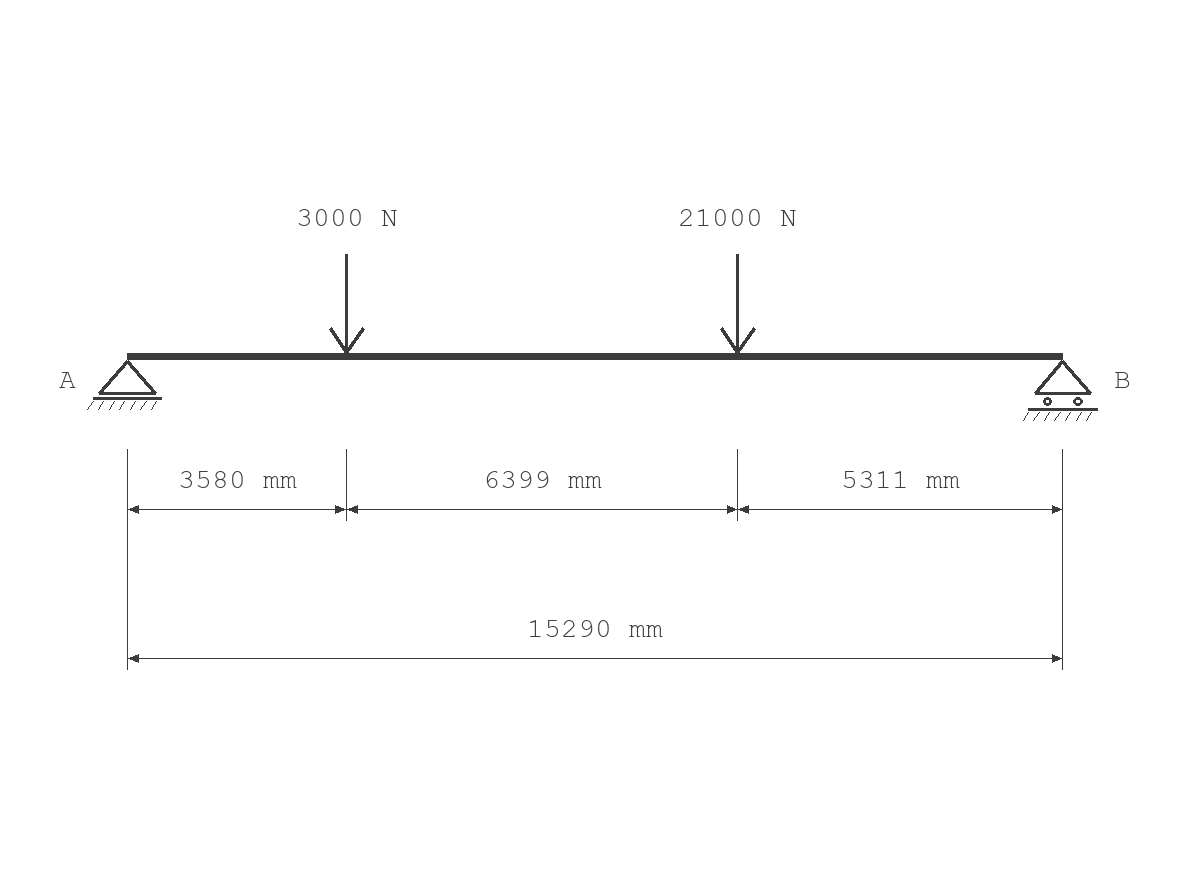pin_support: (87, 360, 162, 410)
point_load: (329, 254, 365, 354), (720, 254, 756, 354)
roller_support: (1023, 360, 1098, 421)
